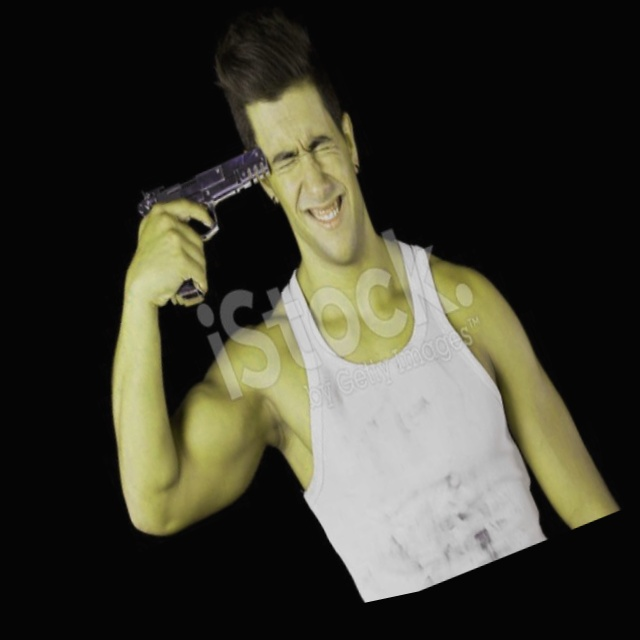gun: (103, 116, 323, 339)
